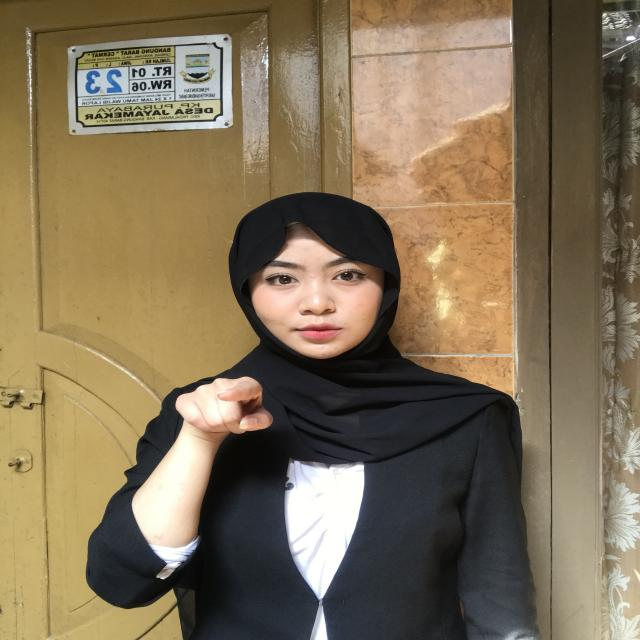kamu: (152, 360, 300, 474)
